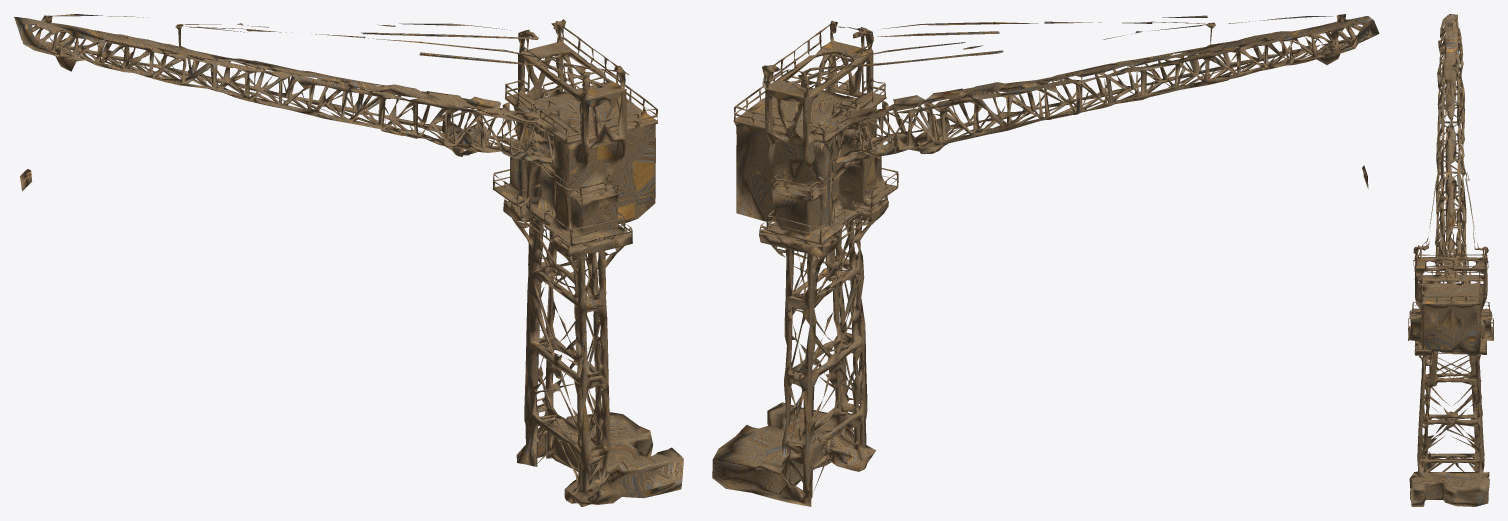
The model's file is vnCrane.4abd79a4.glb.
The picture shows the model from 3 angles, left to right: view 1: azimuth 30°, elevation 25°; view 2: azimuth 150°, elevation 25°; view 3: azimuth 270°, elevation 25°; orthographic projection. The views are drawn at different scales.
Bounding box in the file's own units: 1.89 × 1.7 × 0.4061.
Materials: 1 (1 with a texture image).
